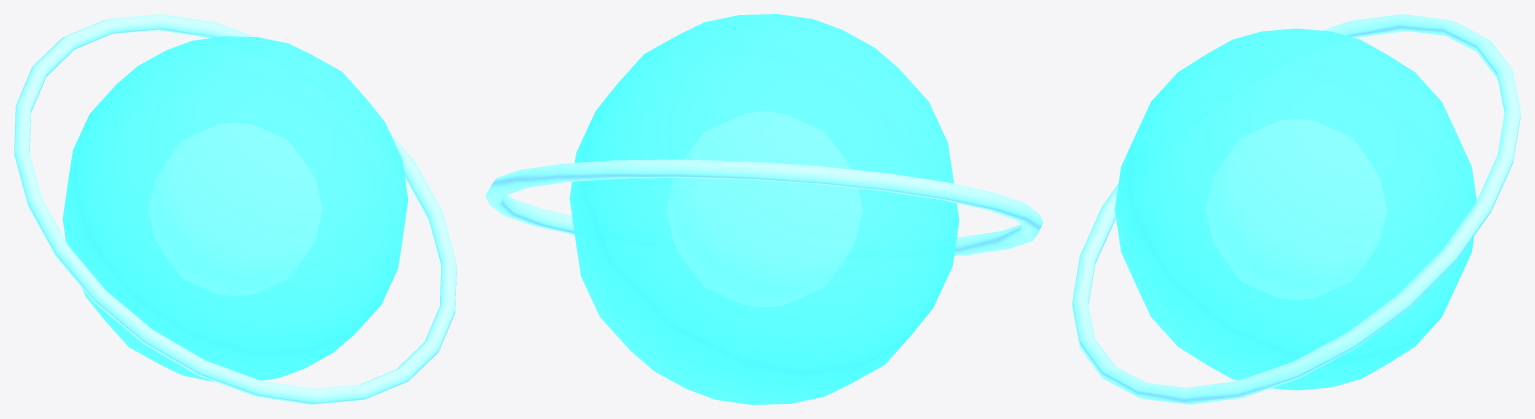
File: collectible-orb.glb
3 renders of one model, left to right at view 1: azimuth 30°, elevation 25°; view 2: azimuth 150°, elevation 25°; view 3: azimuth 270°, elevation 25°, orthographic. The views are drawn at different scales.
Parts seen in each view (by area): view 1: Coll_Orb_Main, Coll_Orb_Core, Coll_Orb_Ring; view 2: Coll_Orb_Main, Coll_Orb_Core, Coll_Orb_Ring; view 3: Coll_Orb_Main, Coll_Orb_Core, Coll_Orb_Ring.
Part boxes in pixels (box(x1,y1,x2,y2)): Coll_Orb_Main: box(62, 36, 408, 381); Coll_Orb_Core: box(149, 123, 321, 295); Coll_Orb_Ring: box(14, 14, 456, 404); Coll_Orb_Main: box(569, 14, 959, 404); Coll_Orb_Core: box(667, 112, 861, 306); Coll_Orb_Ring: box(485, 159, 1043, 255); Coll_Orb_Main: box(1115, 28, 1476, 390); Coll_Orb_Core: box(1206, 119, 1386, 299); Coll_Orb_Ring: box(1072, 14, 1520, 404).
Size of the model in its own units: 0.4407 by 0.32 by 0.3949.
